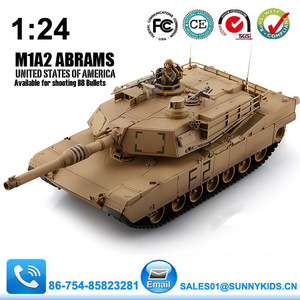Battle Tank: (52, 84, 289, 210)
